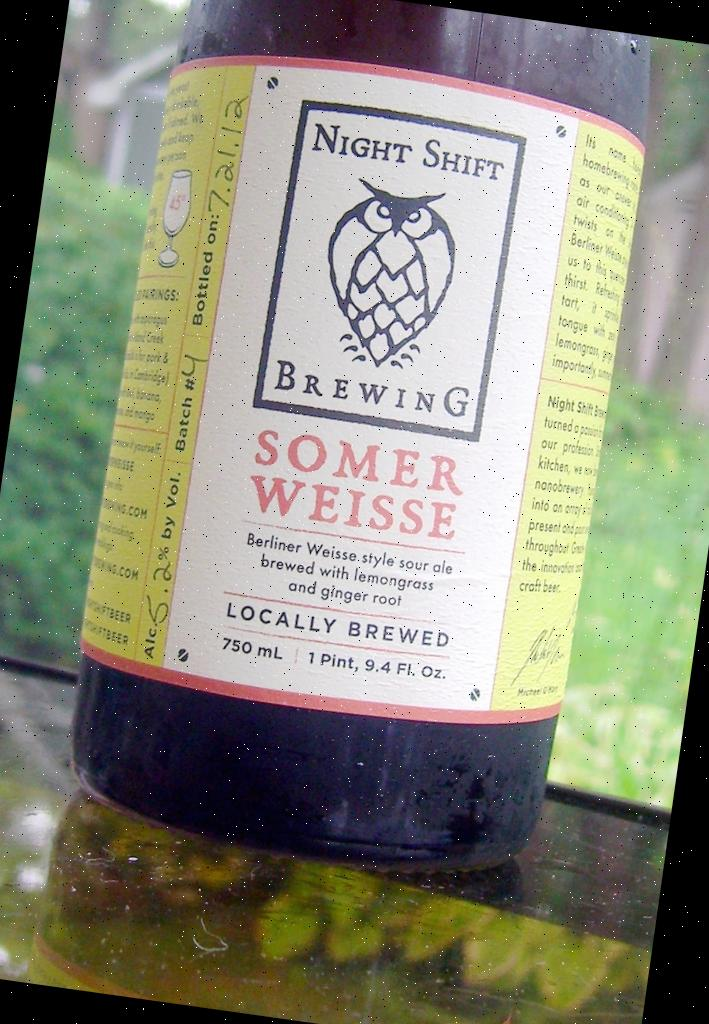Owl: (312, 173, 466, 373)
